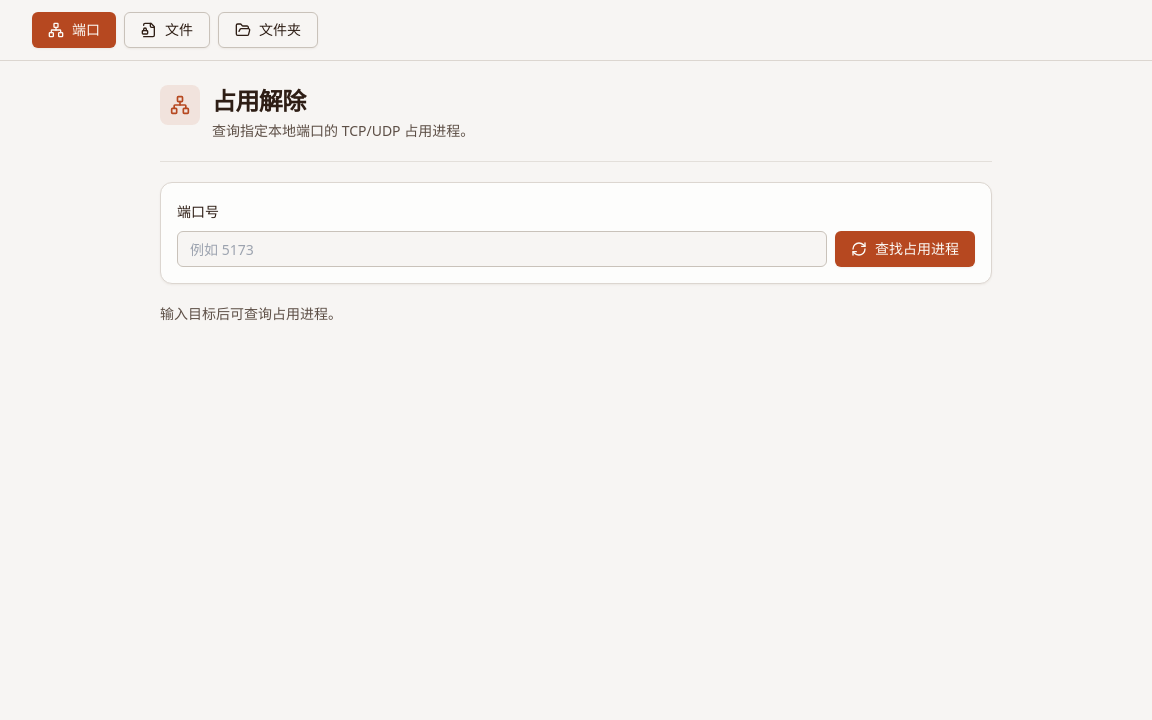
Test: Windows process tools › 无法验证进程身份时禁用结束操作
This screenshot has width=1152, height=720.
Type "5173" into the field labelled "端口号". click: {"x": 502, "y": 249}
box: x1=177 y1=231 x2=827 y2=267
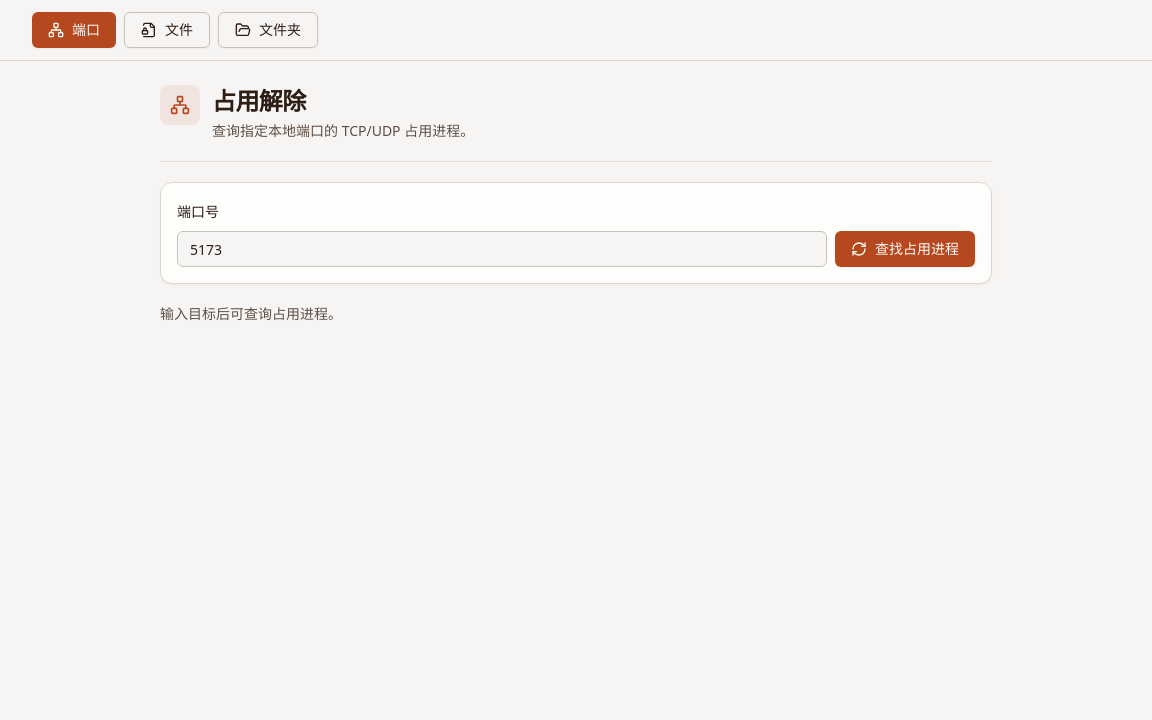
Click the button "查找占用进程". click: {"x": 905, "y": 249}
box: x1=835 y1=231 x2=975 y2=267
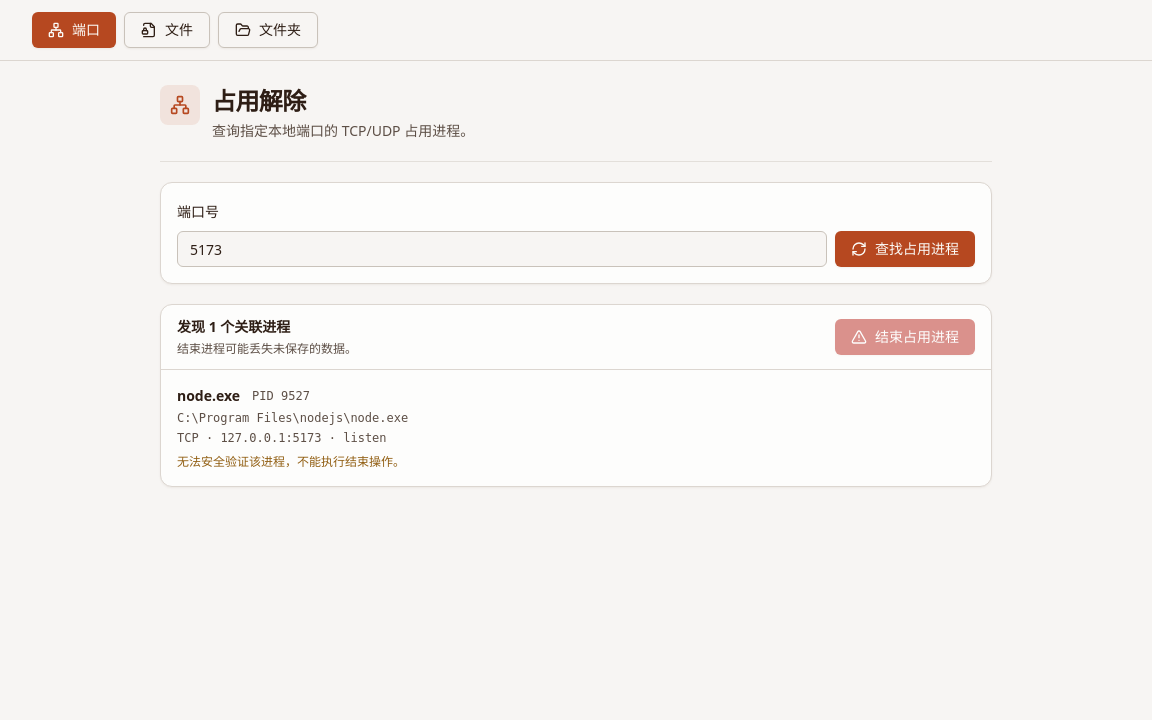
Expected: the text "node.exe" is shown, x1=177 y1=386 x2=240 y2=406
Expected: the button "结束占用进程" is disabled, x1=835 y1=319 x2=975 y2=355
